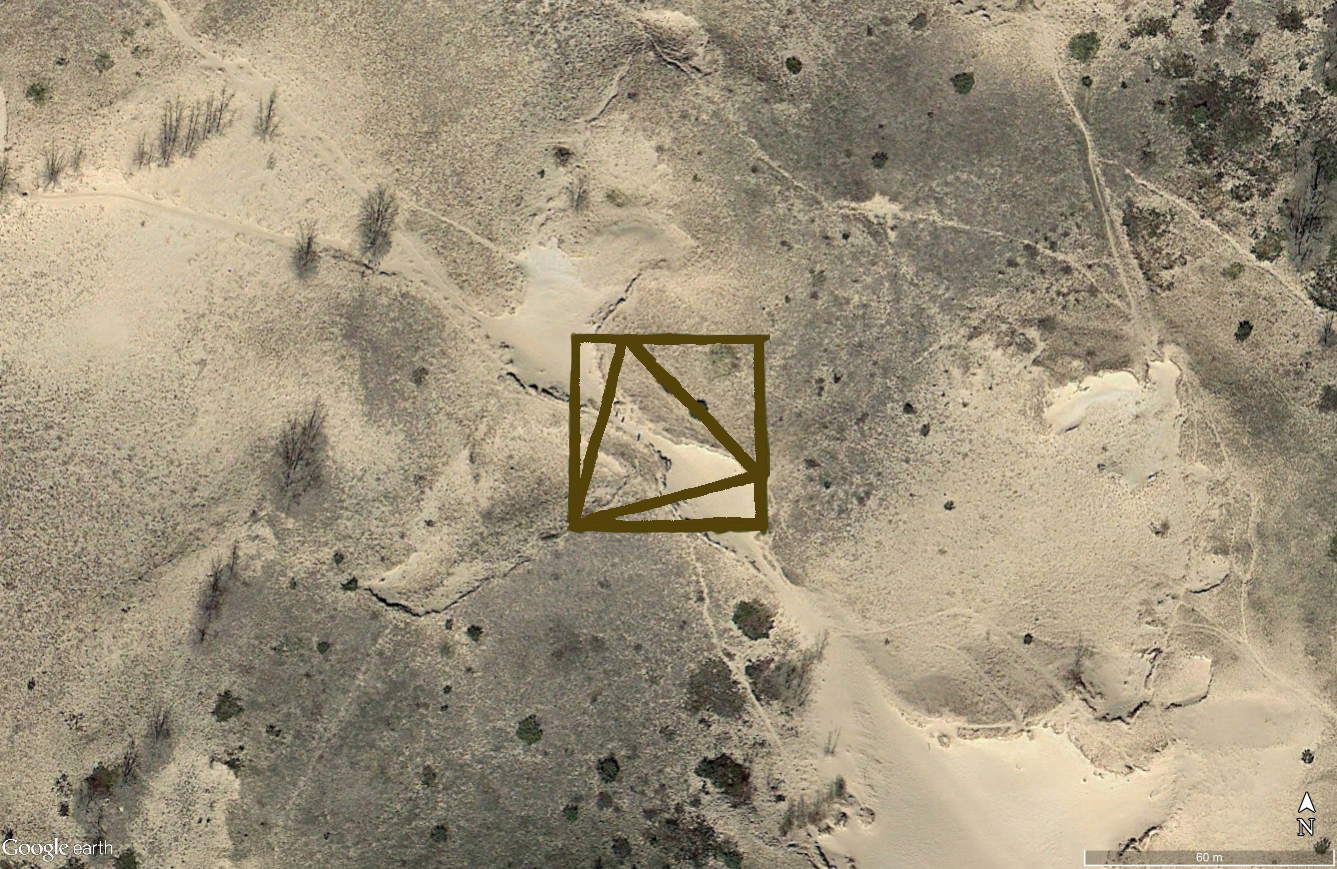marker: (564, 328, 775, 540)
